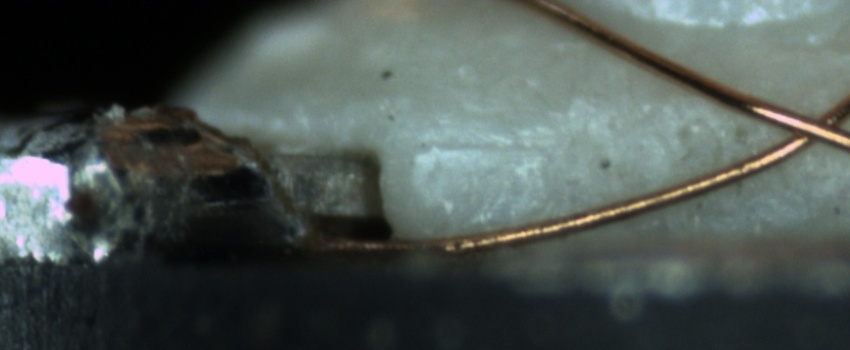CL: (757, 93, 848, 160)
DL: (414, 120, 543, 181)
